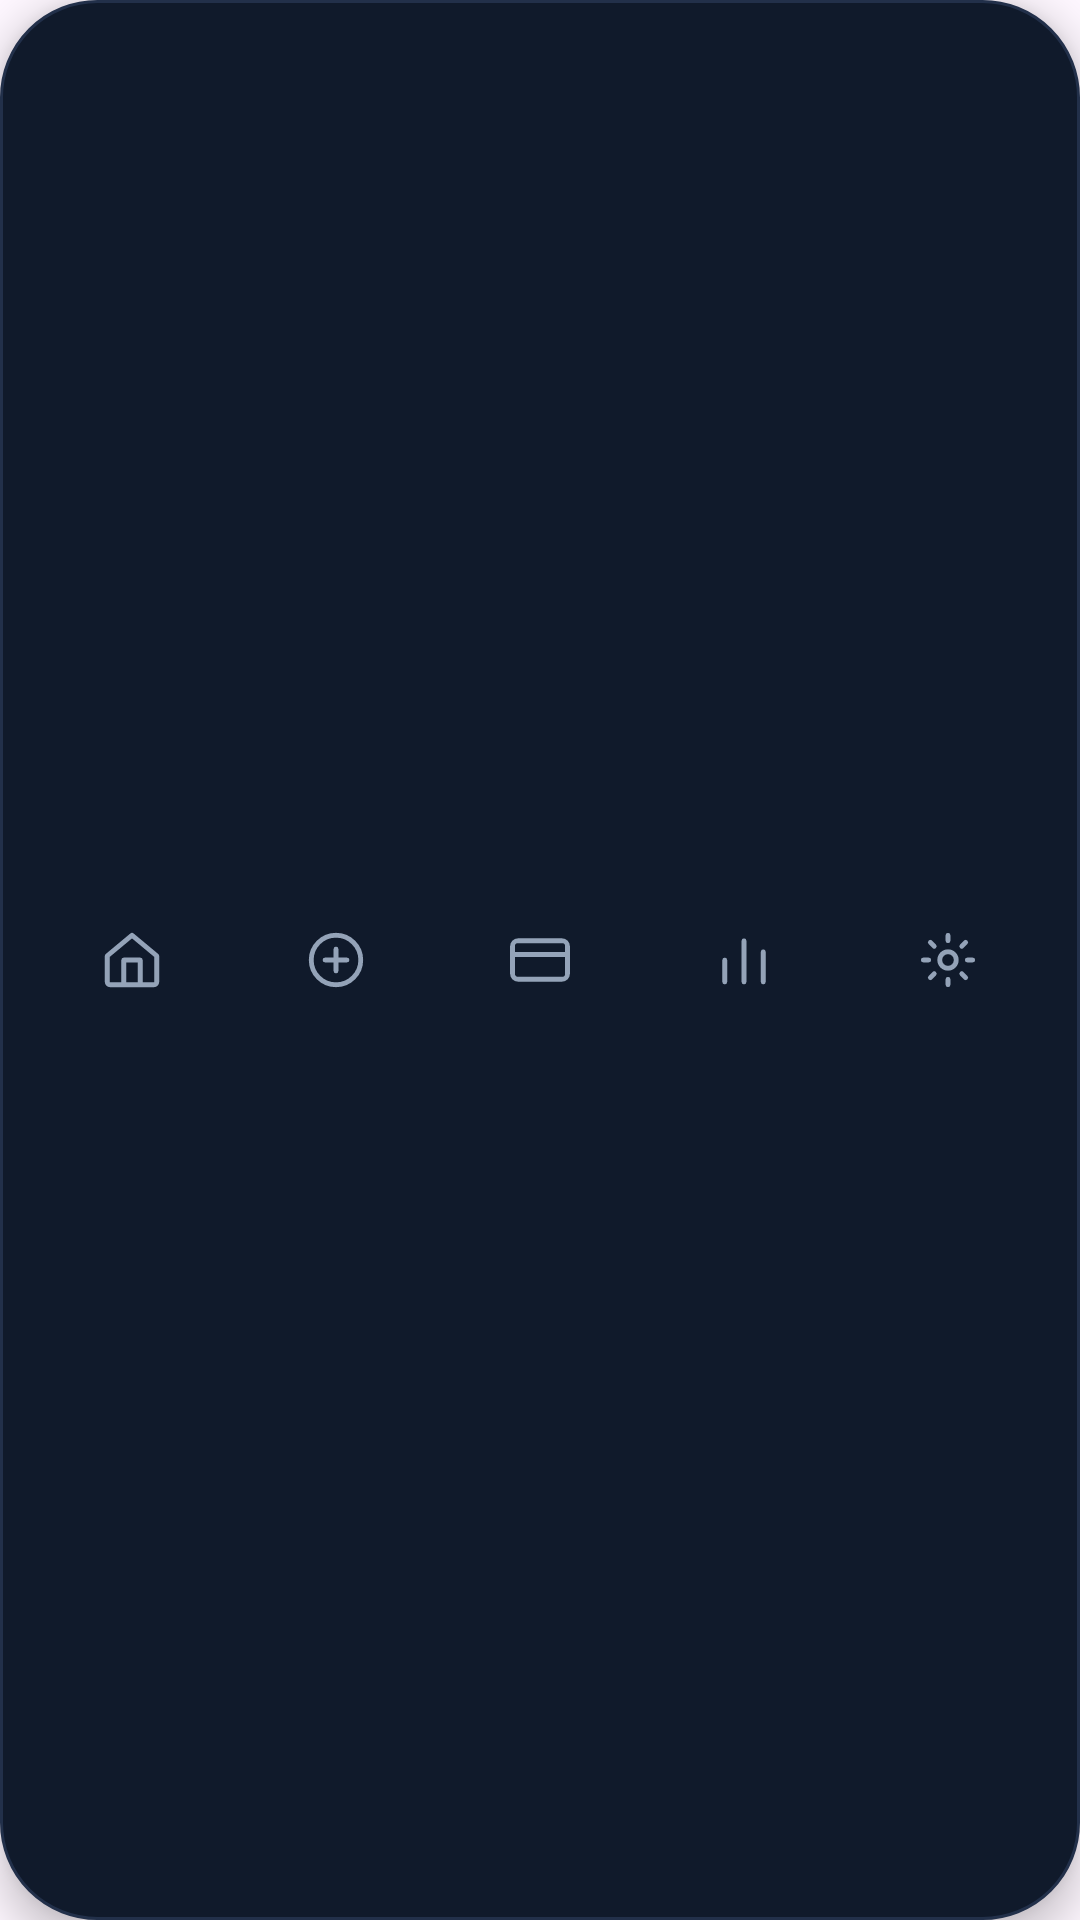

Where to tap for icons on this 1080x1920 app screen, as (x,y):
add: (336,960)
card: (540,960)
chart: (744,961)
home: (132,960)
